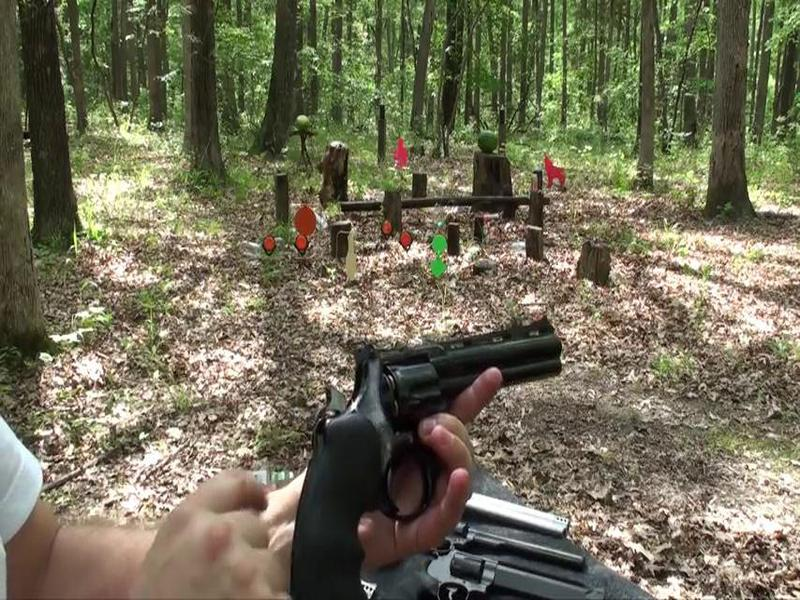Revolver: (287, 299, 553, 600)
